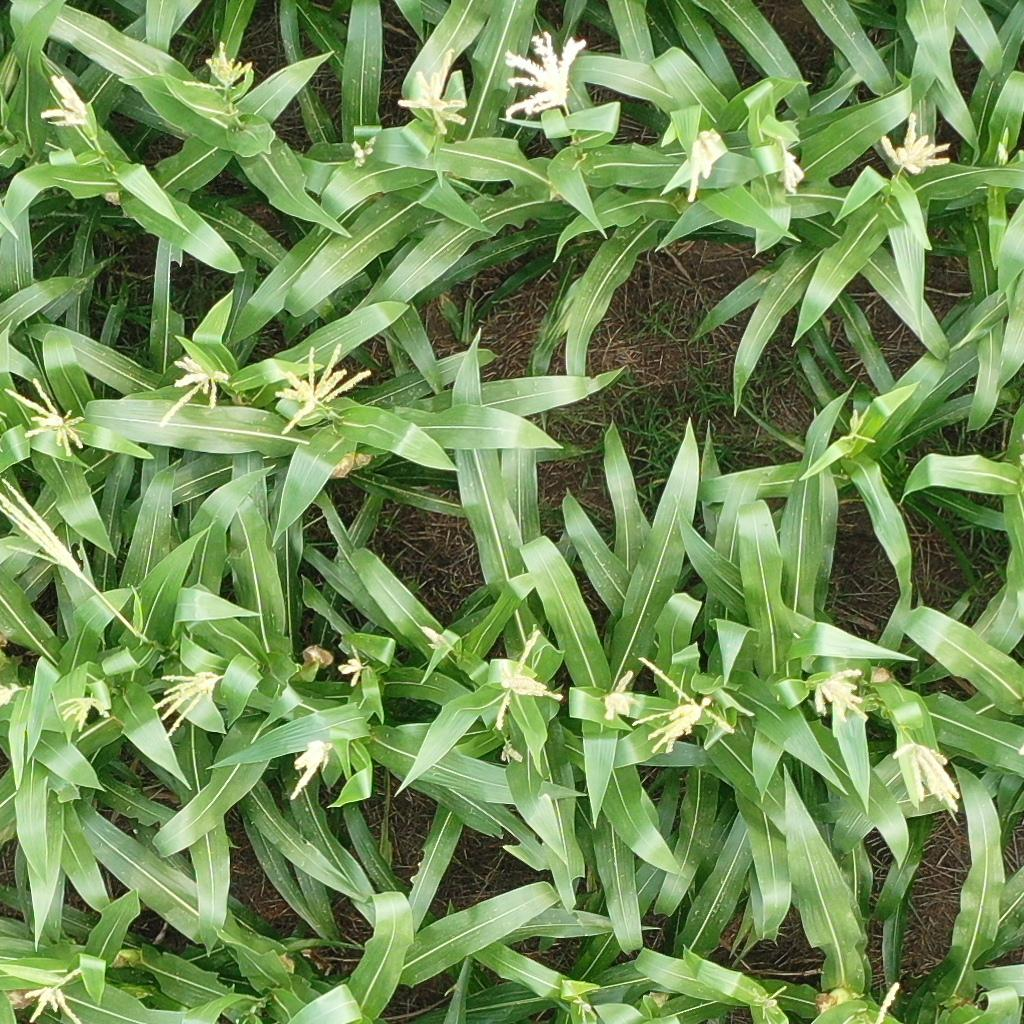Tassel: (270, 340, 376, 442), (634, 651, 734, 756), (1, 475, 85, 579), (491, 626, 563, 728), (503, 33, 586, 121), (1, 376, 88, 454), (396, 50, 472, 134), (891, 734, 963, 816), (157, 355, 234, 430), (148, 668, 222, 736), (875, 118, 953, 173), (810, 664, 872, 729), (181, 43, 252, 97), (21, 967, 86, 1024), (35, 72, 98, 129), (680, 123, 722, 206), (288, 738, 331, 800), (52, 696, 112, 733), (601, 670, 639, 724), (778, 138, 809, 195), (838, 406, 880, 446), (750, 982, 787, 1021), (338, 641, 366, 685), (566, 987, 598, 1024), (421, 623, 456, 656), (352, 129, 377, 170), (500, 738, 526, 766), (1, 679, 25, 706), (996, 141, 1012, 167), (815, 1001, 831, 1012)
